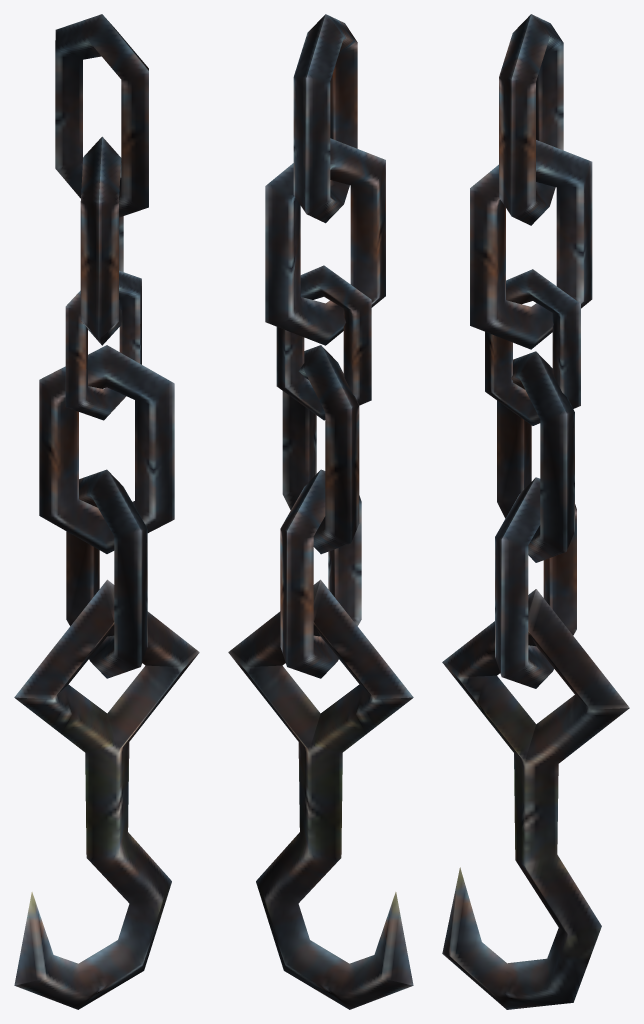
The model's file is B_tielian001.fbx.
3 views of the same model, side by side, from view 1: azimuth 30°, elevation 25°; view 2: azimuth 150°, elevation 25°; view 3: azimuth 330°, elevation 25° (orthographic).
Parts seen in each view (by area): view 1: B_tielian001; view 2: B_tielian001; view 3: B_tielian001.
Part boxes in pixels (x1,y1,x2,y2): B_tielian001: (14, 14, 199, 1009); B_tielian001: (228, 14, 413, 1009); B_tielian001: (442, 14, 629, 1009).
Size of the model in its own units: 36.53 by 186 by 23.12.
